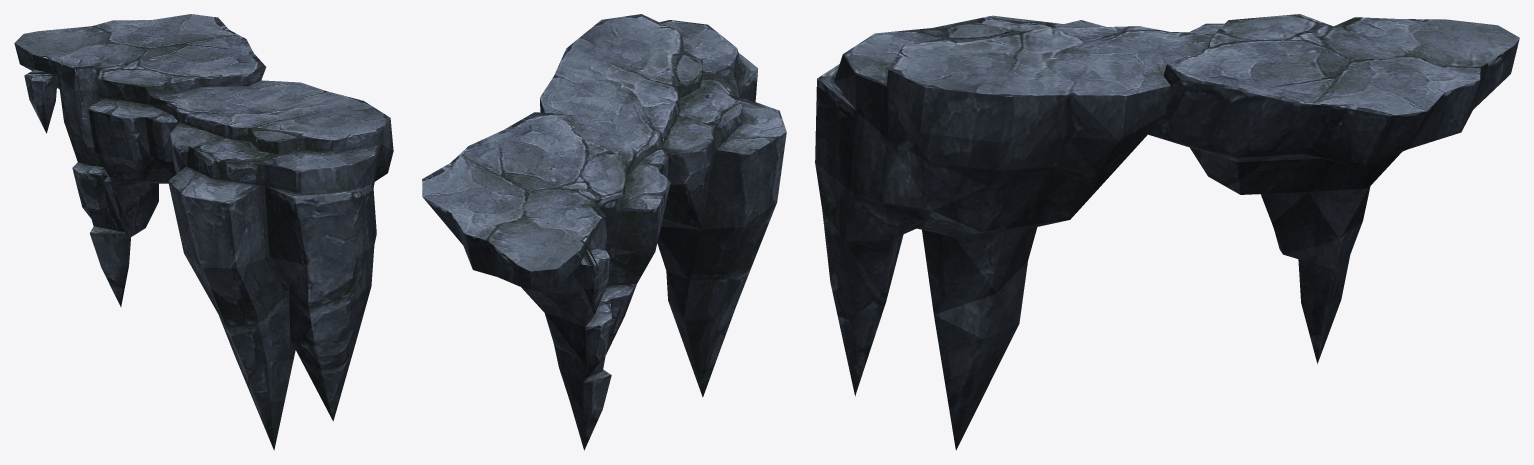
File: cs_lobbynew02_shitou01_02.FBX
3 renders of one model, left to right at view 1: azimuth 30°, elevation 25°; view 2: azimuth 150°, elevation 25°; view 3: azimuth 270°, elevation 25°, orthographic. The views are drawn at different scales.
Visible parts, largest first — view 1: cs_lobbynew02_shitou01_02; view 2: cs_lobbynew02_shitou01_02; view 3: cs_lobbynew02_shitou01_02.
Part boxes in pixels (left/top/right/bottom): cs_lobbynew02_shitou01_02: left=14, top=14, right=393, bottom=450; cs_lobbynew02_shitou01_02: left=422, top=14, right=786, bottom=450; cs_lobbynew02_shitou01_02: left=815, top=14, right=1519, bottom=450.
Bounding box in the file's own units: 301 × 469 × 687.
